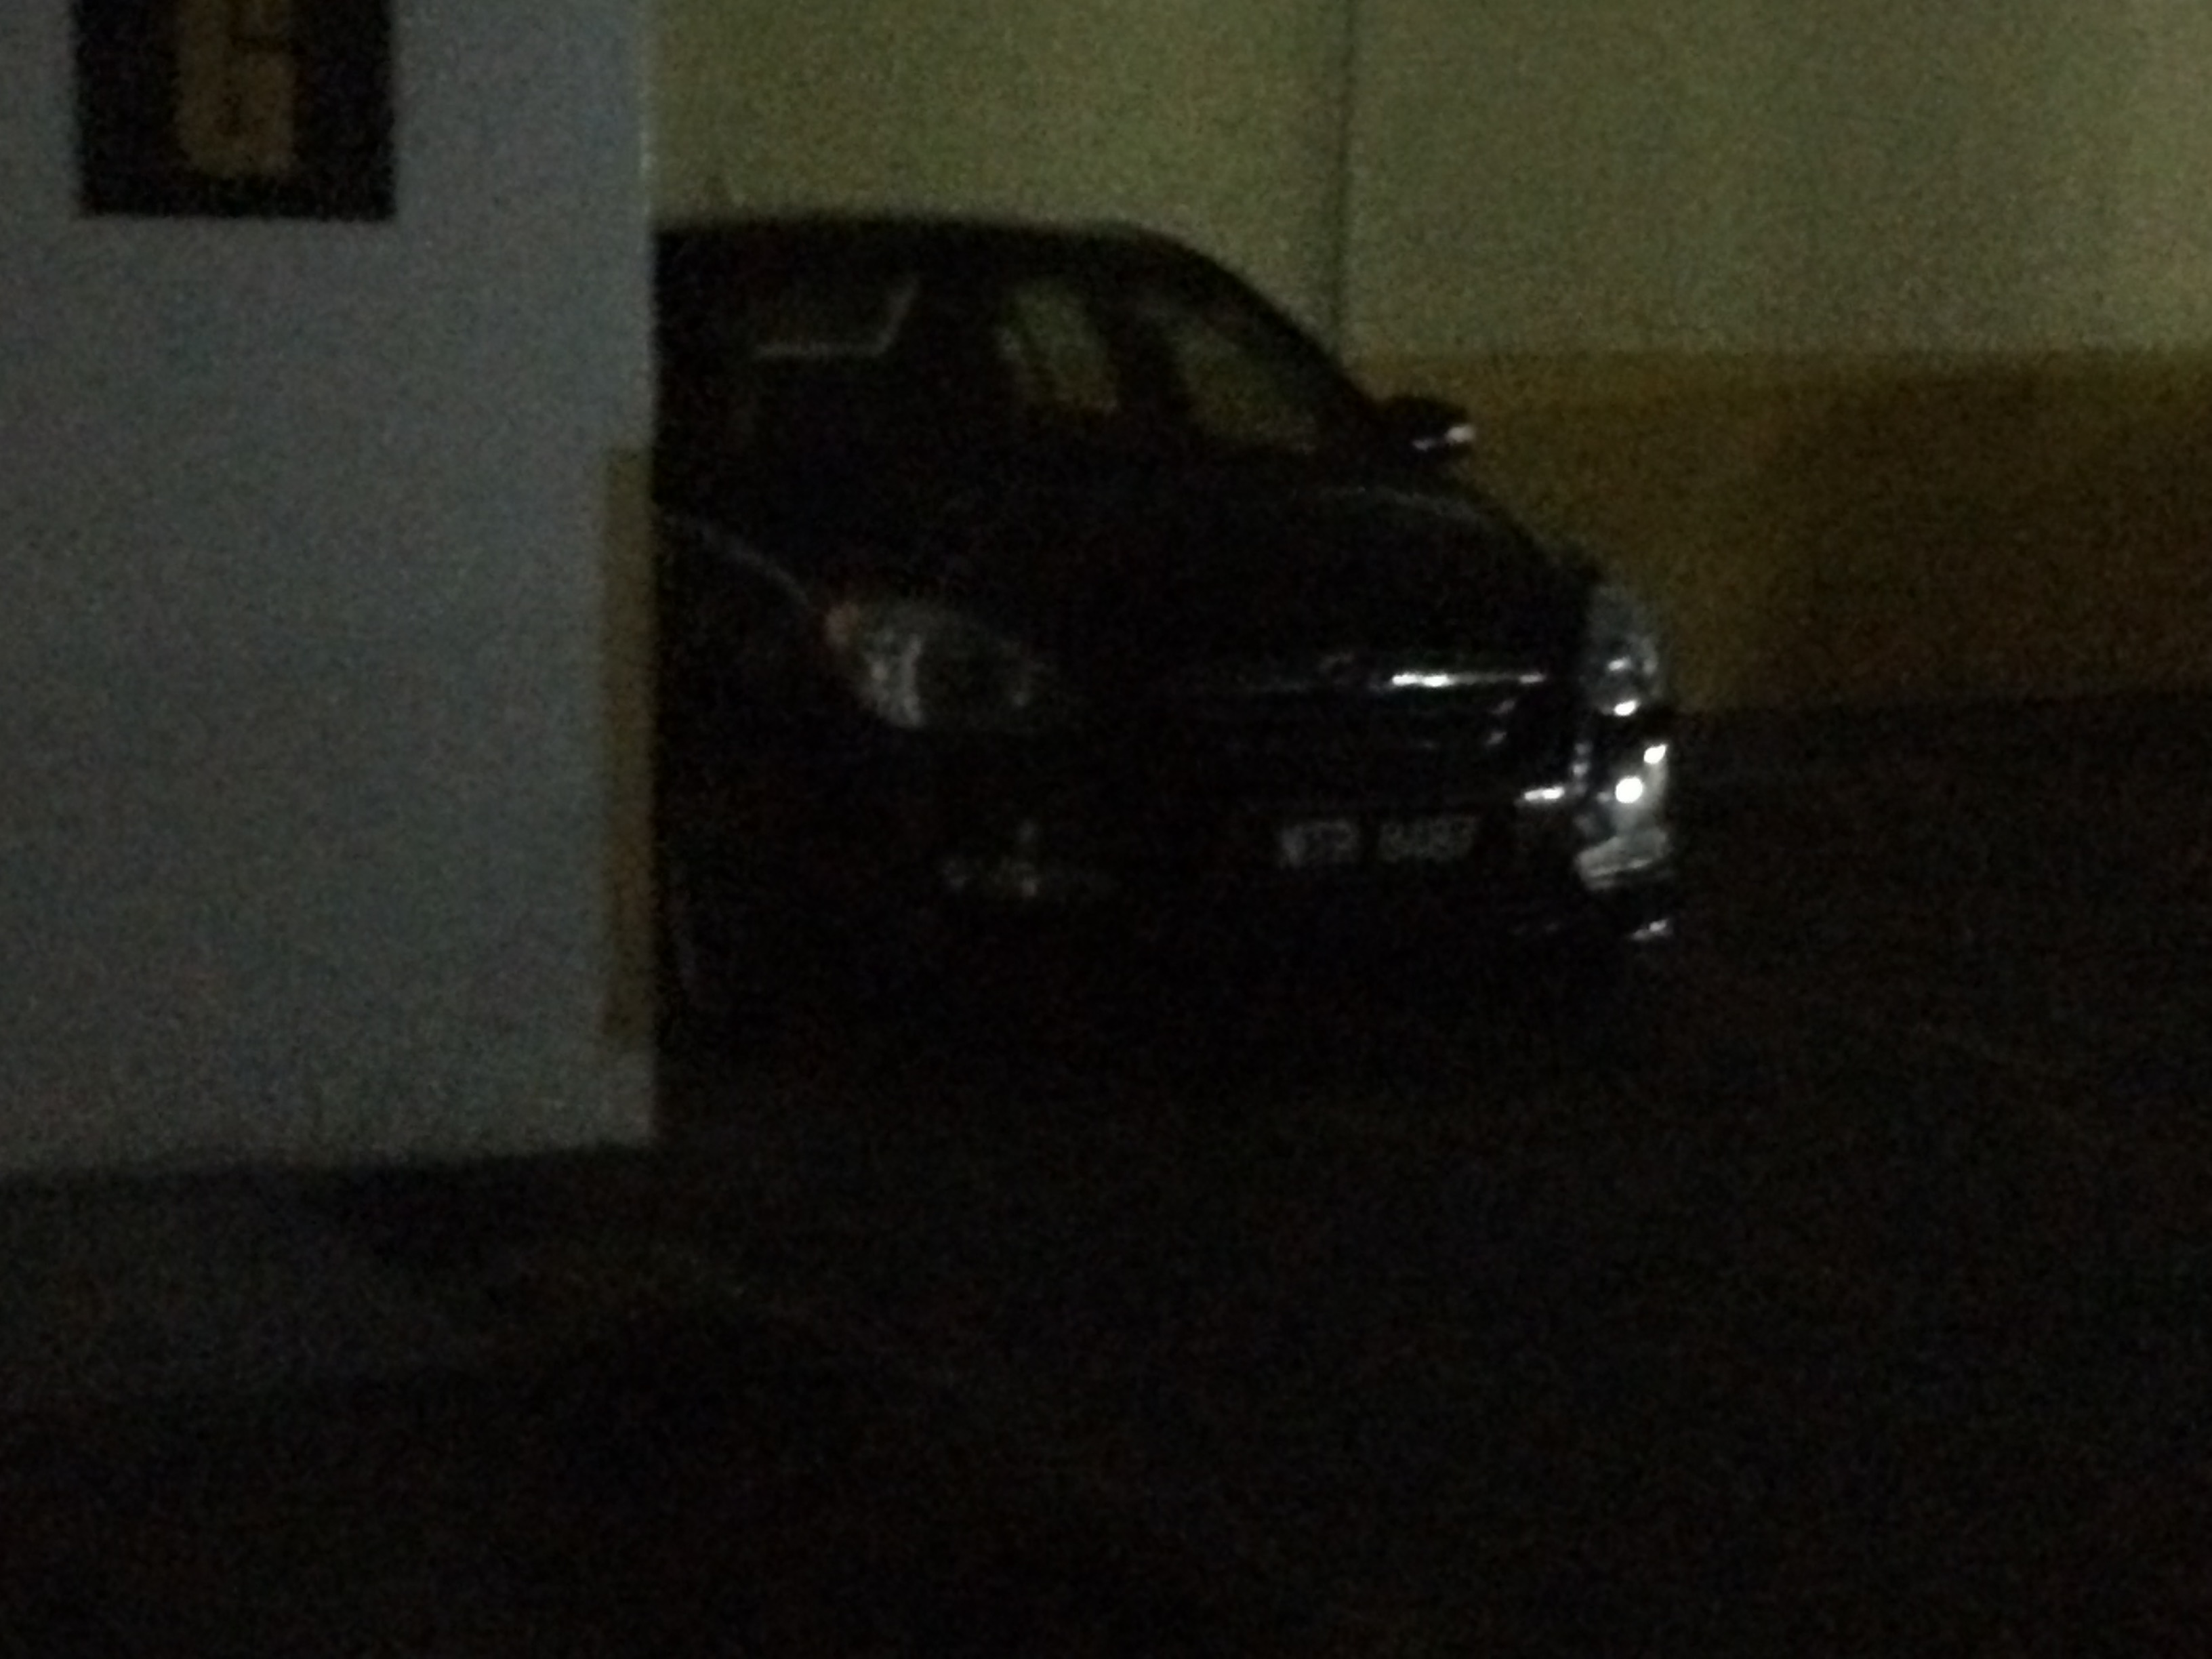car: (556, 119, 1719, 1063)
